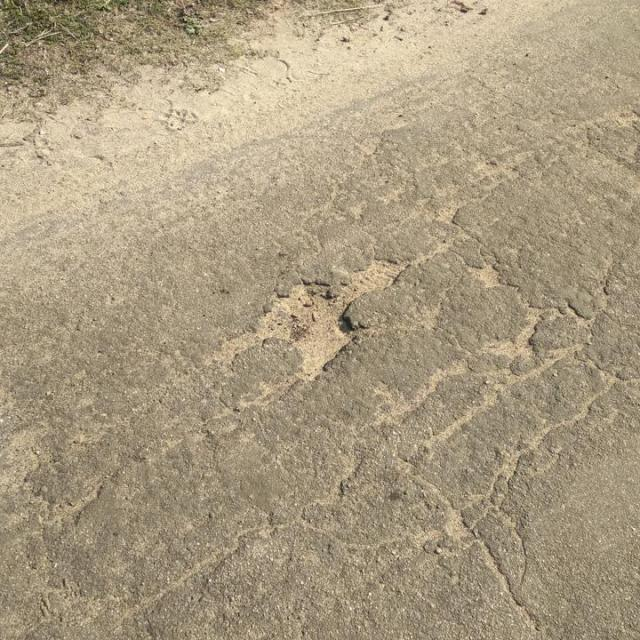Pothole: (219, 256, 411, 382)
